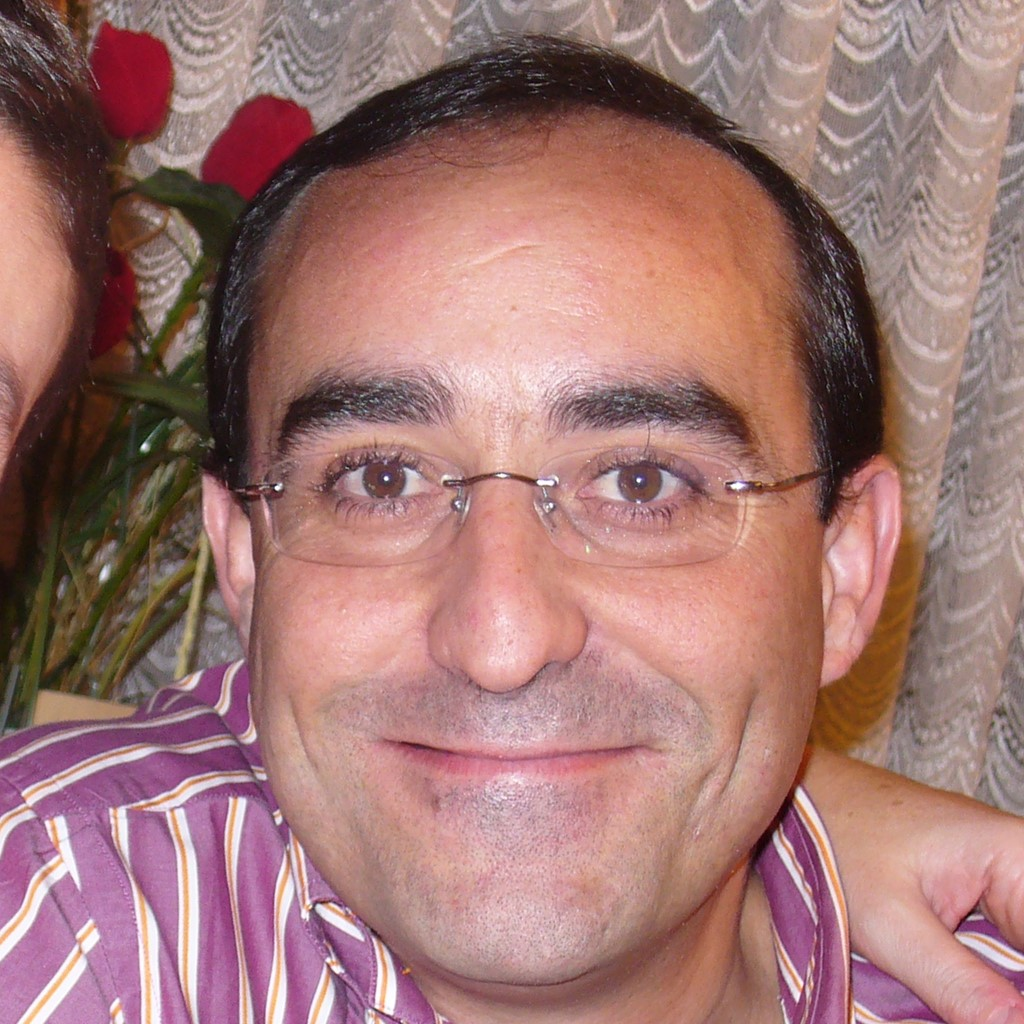sin_mascara: (248, 182, 843, 998)
